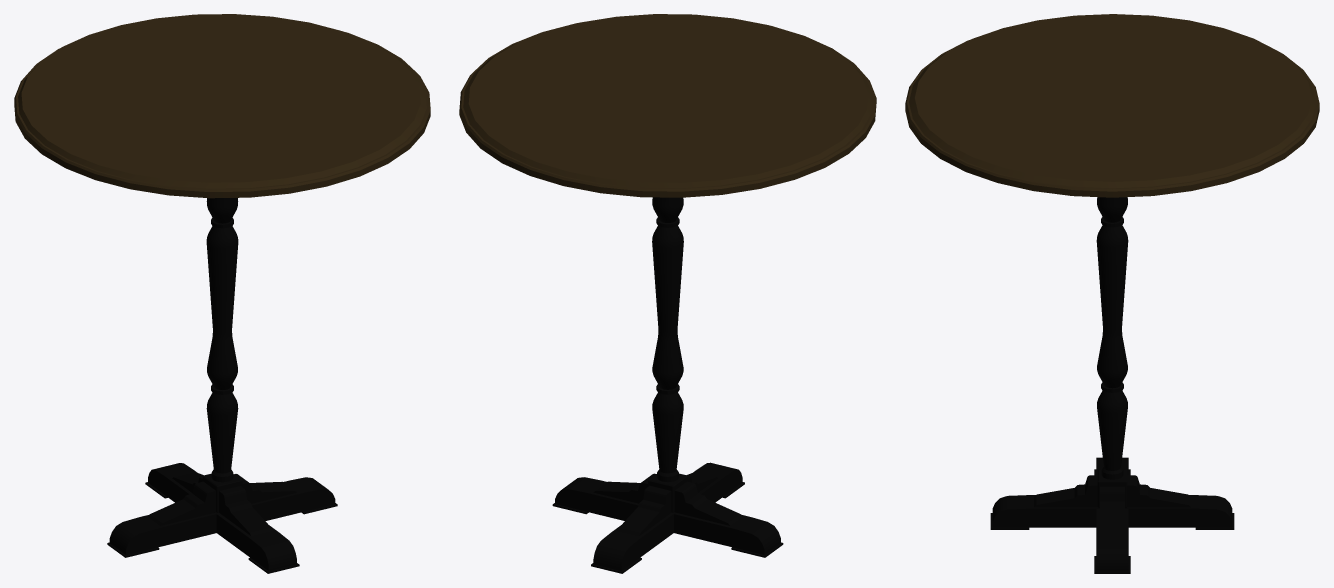
The model's file is Stehtisch.fbx.
3 views of the same model, side by side, from view 1: azimuth 30°, elevation 25°; view 2: azimuth 150°, elevation 25°; view 3: azimuth 270°, elevation 25° (orthographic).
Visible parts, largest first — view 1: Cylinder, Stehtisch, Cube, Cube.006, Cube.002, Cube.007; view 2: Cylinder, Stehtisch, Cube, Cube.006, Cube.002, Cube.007; view 3: Cylinder, Stehtisch, Cube.006, Cube.007, Cube, Cube.002.
Part boxes in pixels (x1,y1,x2,y2): Cylinder: [14, 14, 430, 198]; Stehtisch: [206, 198, 238, 482]; Cube: [107, 477, 337, 557]; Cube.006: [145, 463, 299, 573]; Cube.002: [148, 474, 296, 525]; Cube.007: [172, 472, 272, 535]; Cylinder: [459, 14, 876, 197]; Stehtisch: [652, 197, 683, 482]; Cube: [552, 477, 783, 557]; Cube.006: [591, 462, 744, 573]; Cube.002: [593, 473, 742, 525]; Cube.007: [617, 472, 717, 535]; Cylinder: [905, 14, 1319, 197]; Stehtisch: [1096, 197, 1128, 479]; Cube.006: [990, 495, 1234, 529]; Cube.007: [1034, 475, 1190, 507]; Cube: [1094, 457, 1130, 573]; Cube.002: [1100, 467, 1124, 535].
Size of the model in its own units: 102 by 115 by 102.
